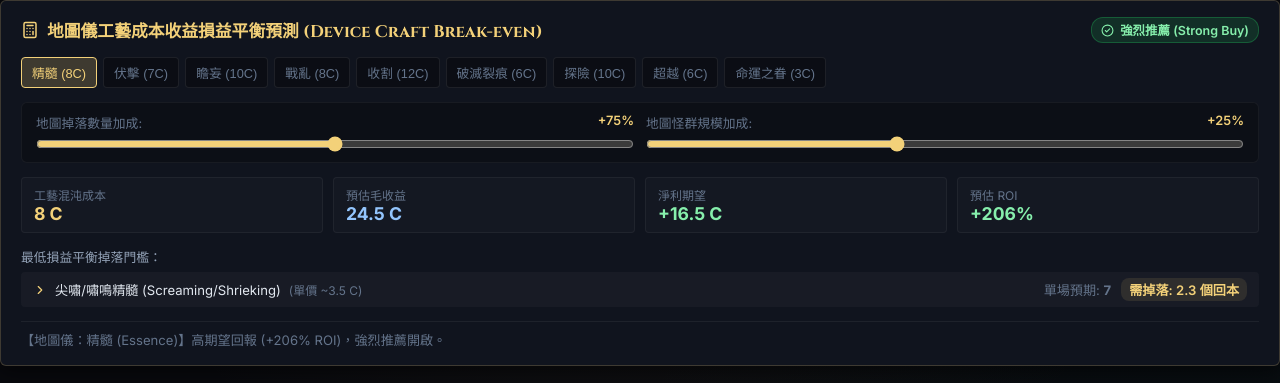
Test: DeviceBreakEvenCard › switches craft when pill is clicked
Click the button "伏擊 (7C)": {"x": 141, "y": 72} [103,57,179,88]
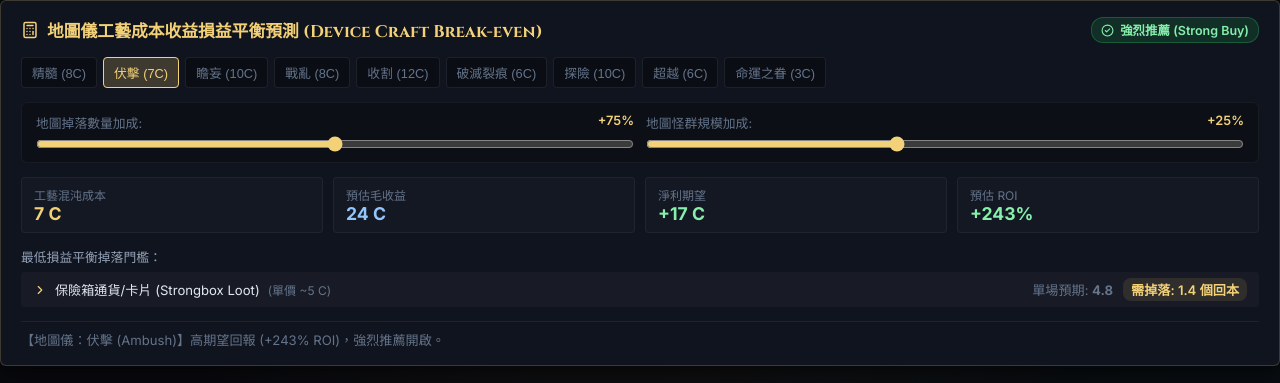
Expected: the text "保險箱通貨/卡片 (Strongbox Loot)" is shown, [55,280,260,299]
